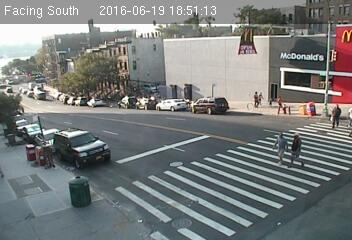neg: (205, 76, 231, 111), (169, 131, 193, 164), (22, 137, 46, 168), (103, 71, 125, 100), (146, 190, 168, 219), (29, 51, 50, 80), (204, 171, 225, 198), (145, 83, 165, 111), (57, 85, 77, 111), (234, 27, 253, 53), (69, 181, 88, 206), (284, 36, 302, 60), (86, 120, 102, 142), (311, 68, 325, 87)
pos: (284, 129, 312, 166), (265, 129, 290, 164), (322, 99, 346, 132), (272, 92, 286, 111), (249, 87, 263, 105)
